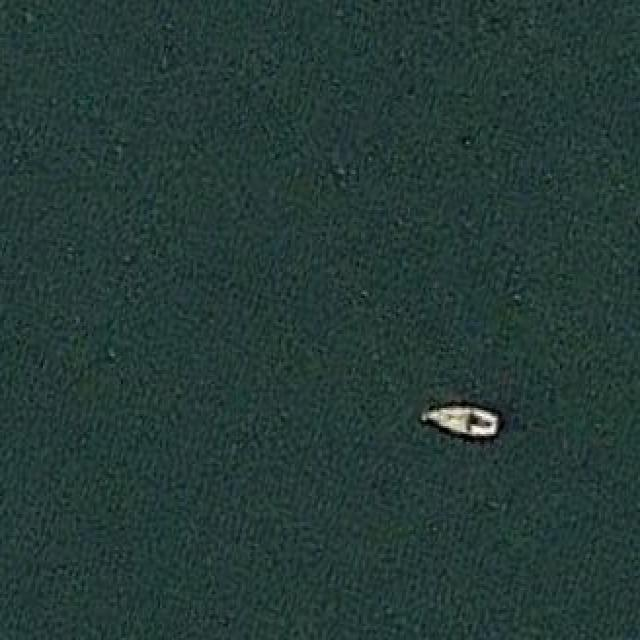ship: (418, 396, 502, 442)
